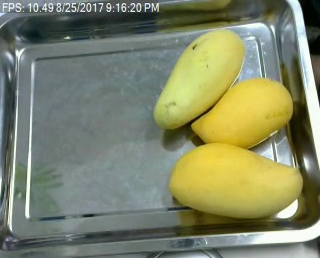Mango: (167, 141, 308, 220), (152, 28, 252, 129), (191, 73, 293, 154)
